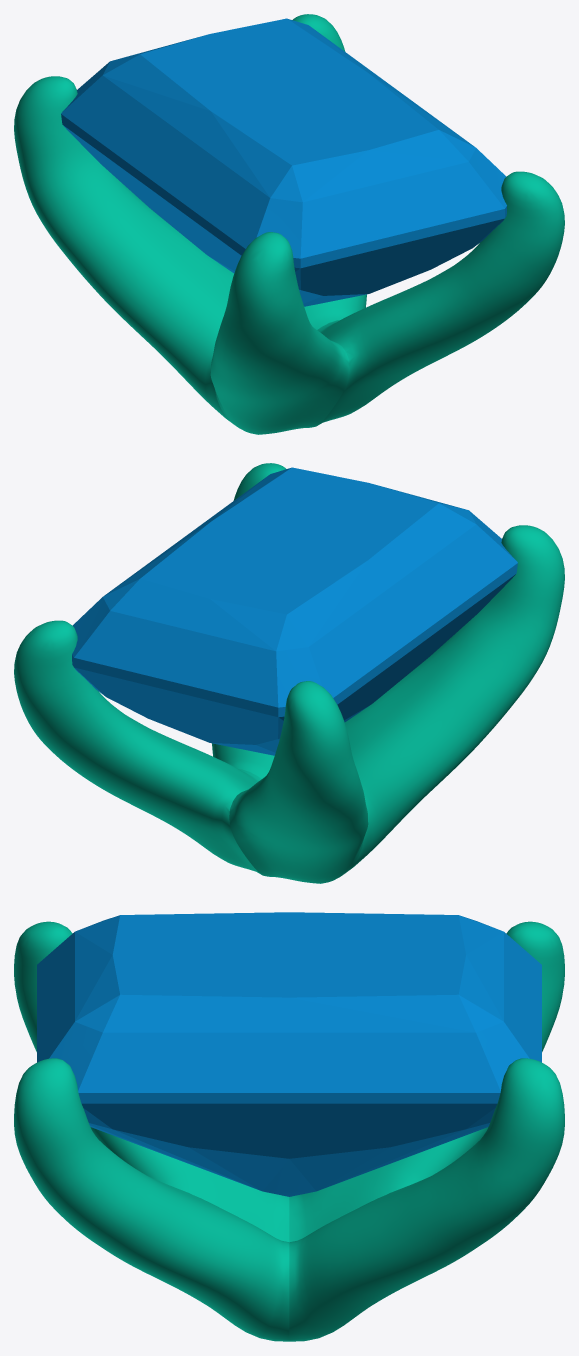
The model's file is radiant.glb.
3 views of the same model, one above another, from view 1: azimuth 30°, elevation 25°; view 2: azimuth 150°, elevation 25°; view 3: azimuth 270°, elevation 25° (orthographic). The views are drawn at different scales.
Parts seen in each view (by area): view 1: DIA-RDT-B1-1, MTL-HEAD-1 (×4); view 2: DIA-RDT-B1-1, MTL-HEAD-1 (×4); view 3: DIA-RDT-B1-1, MTL-HEAD-1 (×4).
Boxes of the visible parts, x1,y1,x2,y2 form: DIA-RDT-B1-1: (61,18,507,306); MTL-HEAD-1 (×4): (14,14,564,434); DIA-RDT-B1-1: (72,467,517,755); MTL-HEAD-1 (×4): (14,463,564,883); DIA-RDT-B1-1: (37,912,541,1196); MTL-HEAD-1 (×4): (14,921,564,1341).
Size of the model in its own units: 7.03 by 6.73 by 9.28.
